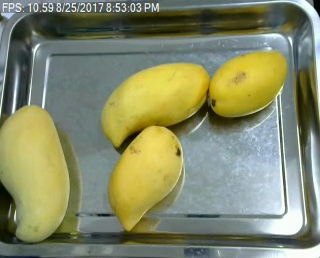Mango: (93, 58, 208, 152), (0, 102, 72, 242), (106, 124, 189, 234), (208, 48, 292, 120)
